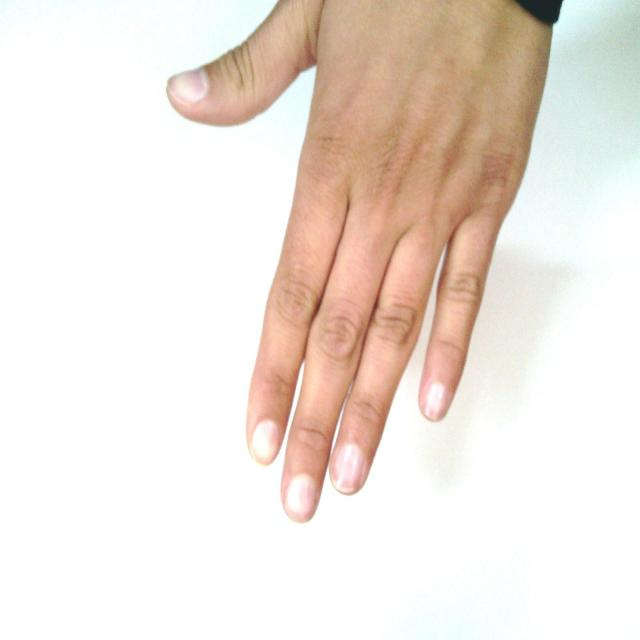others: (116, 1, 626, 539)
